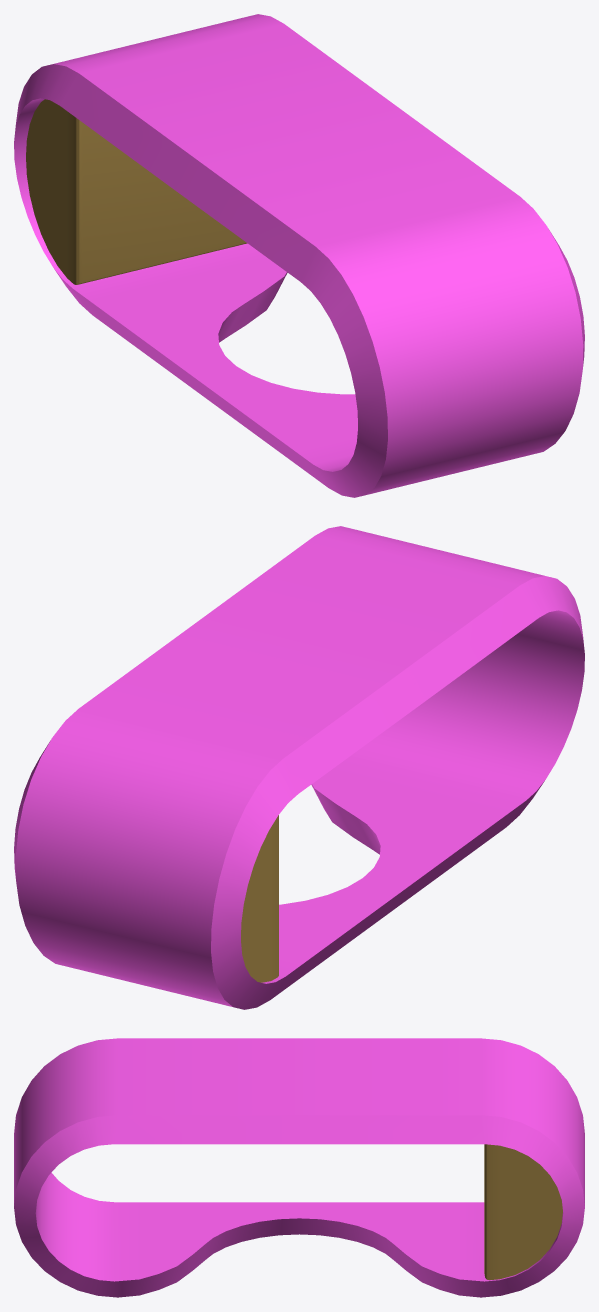
The picture shows the model from 3 angles, top to bottom: view 1: azimuth 30°, elevation 25°; view 2: azimuth 150°, elevation 25°; view 3: azimuth 270°, elevation 25°; orthographic projection. The views are drawn at different scales.
Parts seen in each view (by area): view 1: SM_Desk (×2); view 2: SM_Desk (×2); view 3: SM_Desk (×2).
Boxes of the visible parts, x1,y1,x2,y2 form: SM_Desk (×2): (14, 14, 584, 497); SM_Desk (×2): (14, 526, 584, 1009); SM_Desk (×2): (14, 1038, 584, 1297).
Size of the model in its own units: 0.7447 by 0.7273 by 2.
